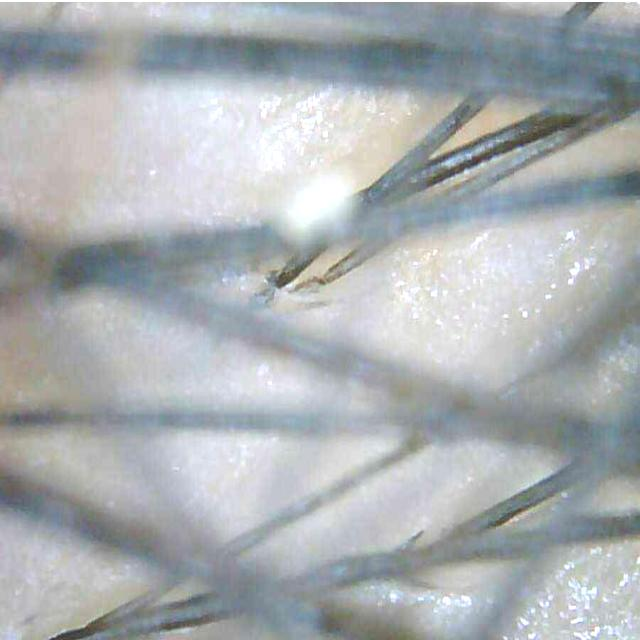o: (501, 227, 609, 356), (508, 542, 640, 640), (259, 87, 341, 173), (375, 579, 475, 640), (391, 250, 454, 328)
